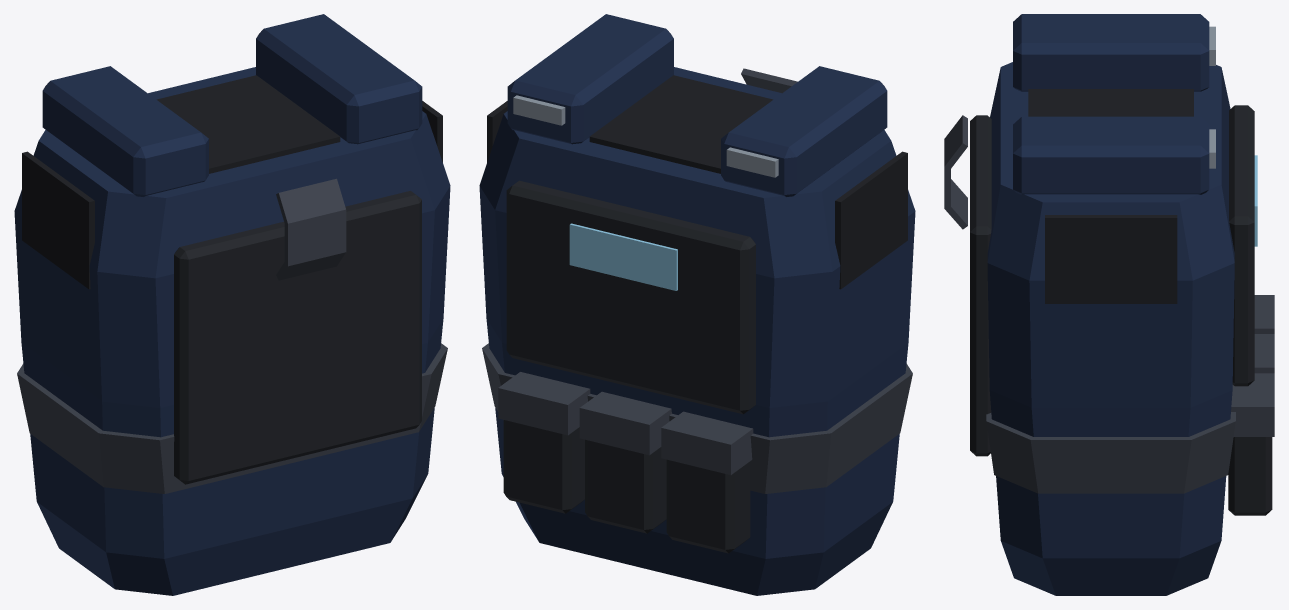
Rendered from armor_vest.glb.
The picture shows the model from 3 angles, left to right: view 1: azimuth 30°, elevation 25°; view 2: azimuth 150°, elevation 25°; view 3: azimuth 270°, elevation 25°; orthographic projection.
Parts seen in each view (by area): view 1: Body; view 2: Body; view 3: Body.
Boxes of the visible parts, left/top/right/bottom form: Body: left=14, top=14, right=450, bottom=595; Body: left=479, top=14, right=915, bottom=595; Body: left=944, top=14, right=1274, bottom=595.
Bounding box in the file's own units: 0.365 × 0.446 × 0.299.
